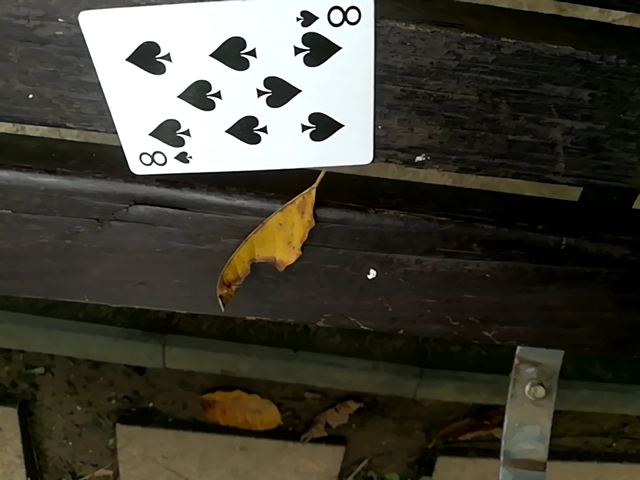ht 8: (76, 0, 375, 177)
